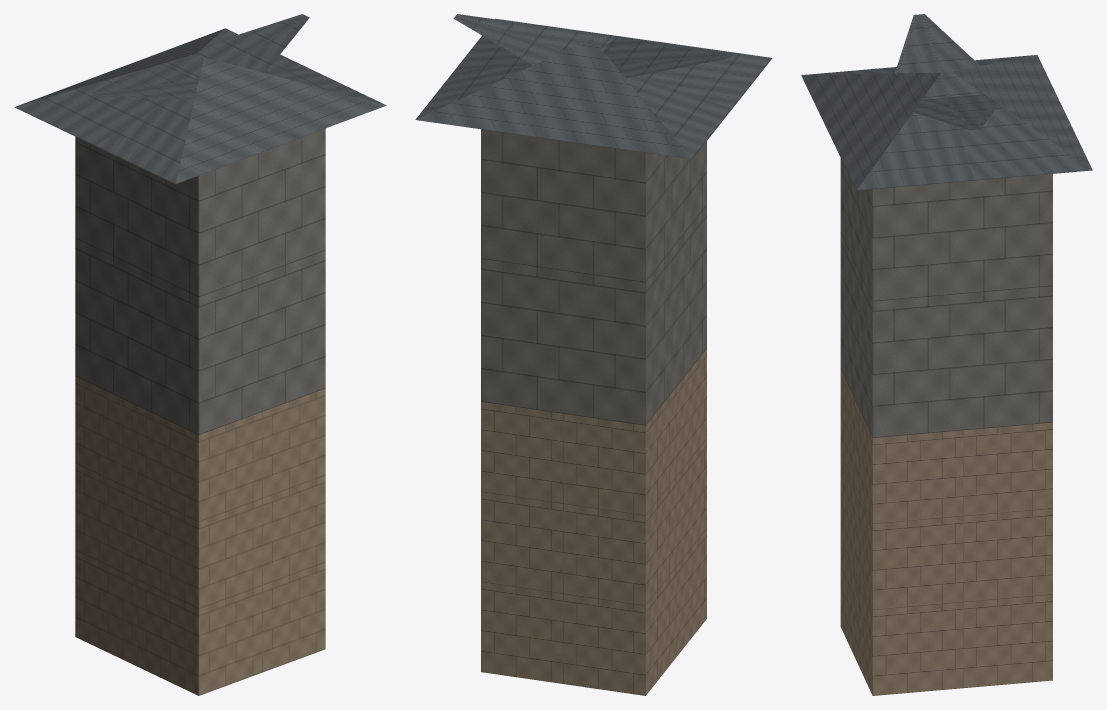
The model's file is bld_c37_-27_438.gltf.
3 views of the same model, side by side, from view 1: azimuth 30°, elevation 25°; view 2: azimuth 150°, elevation 25°; view 3: azimuth 270°, elevation 25° (orthographic). The views are drawn at different scales.
Visible parts, largest first — view 1: bld_c37_-27_438; view 2: bld_c37_-27_438; view 3: bld_c37_-27_438.
Part boxes in pixels (bbox=[...]): bld_c37_-27_438: bbox=[14, 14, 386, 695]; bld_c37_-27_438: bbox=[415, 14, 772, 695]; bld_c37_-27_438: bbox=[801, 14, 1092, 695].
Size of the model in its own units: 5.76 by 11.5 by 5.23.
3 materials, 3 textured.
